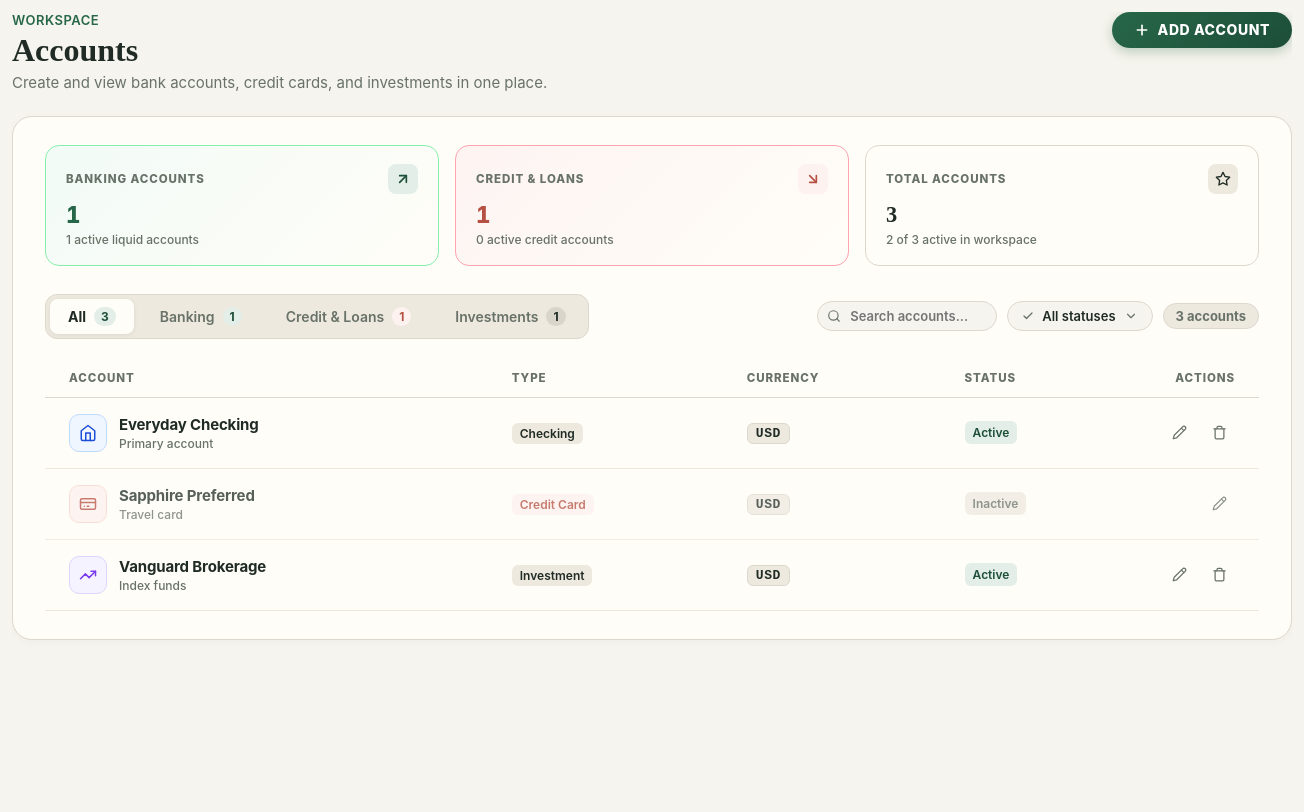
it: AccountsView › filters accounts by status dropdown
Click the dropdown named "Filter by status" at (1080, 316), box x1=1007 y1=301 x2=1152 y2=331
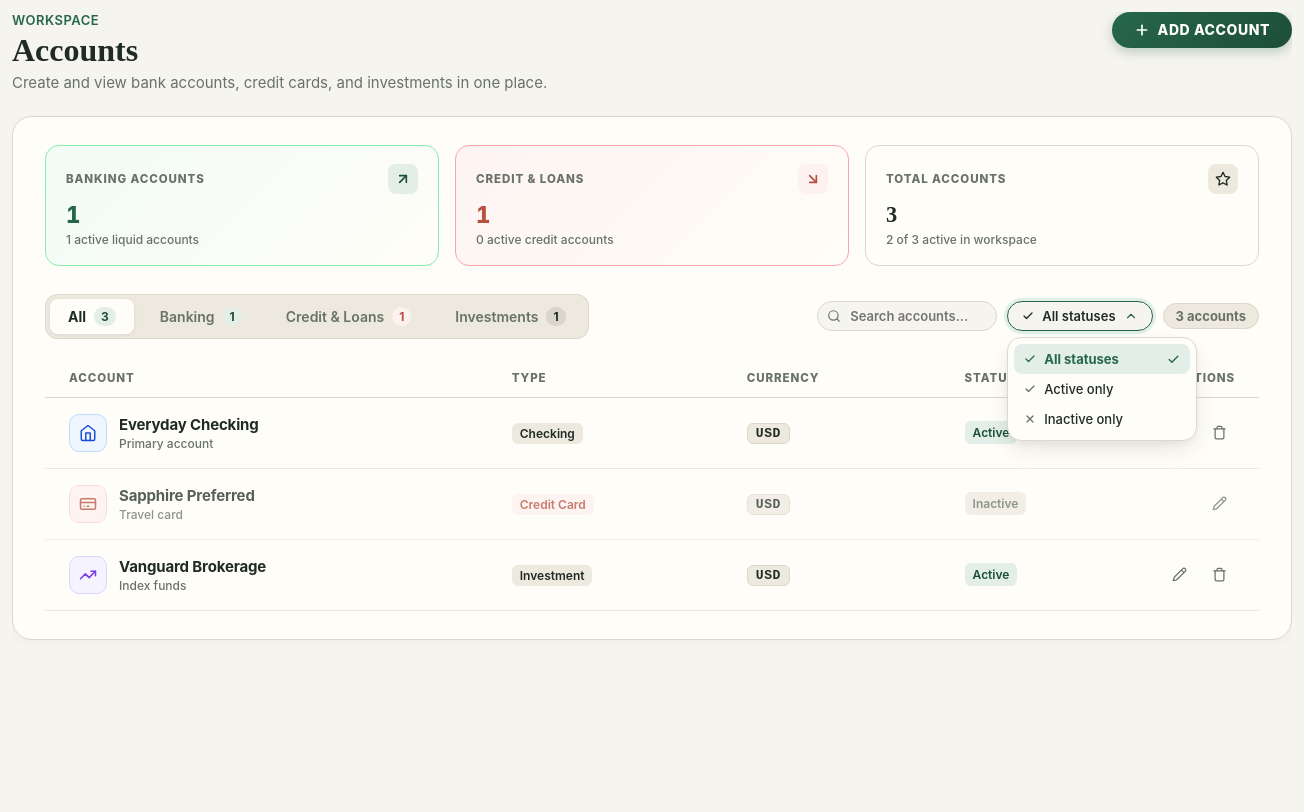
Click the option "Active only" at (1069, 389), box x1=1024 y1=381 x2=1113 y2=397
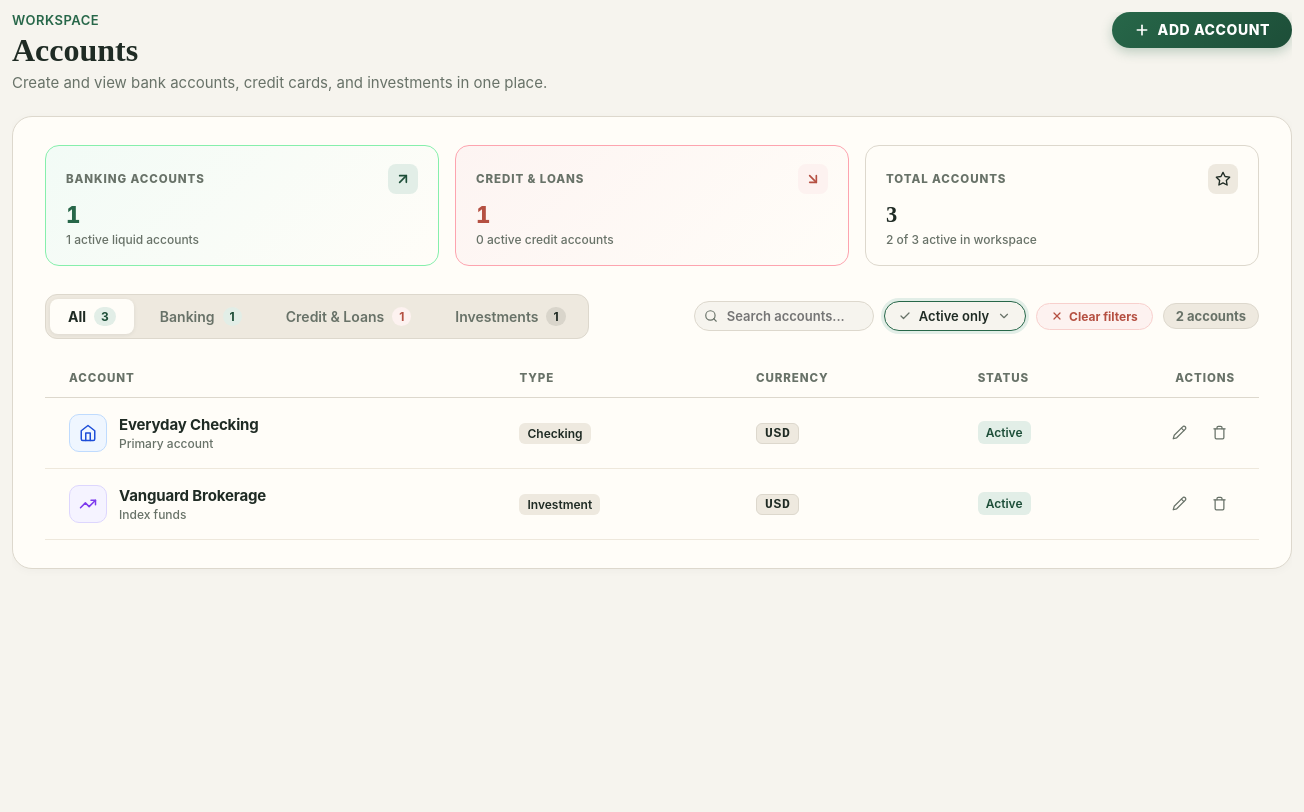
Expected: the text "Everyday Checking" is shown, x1=119 y1=415 x2=259 y2=434
Result: the text "Sapphire Preferred" is gone
Result: the text "2 accounts" is shown at x1=1163 y1=303 x2=1259 y2=329
